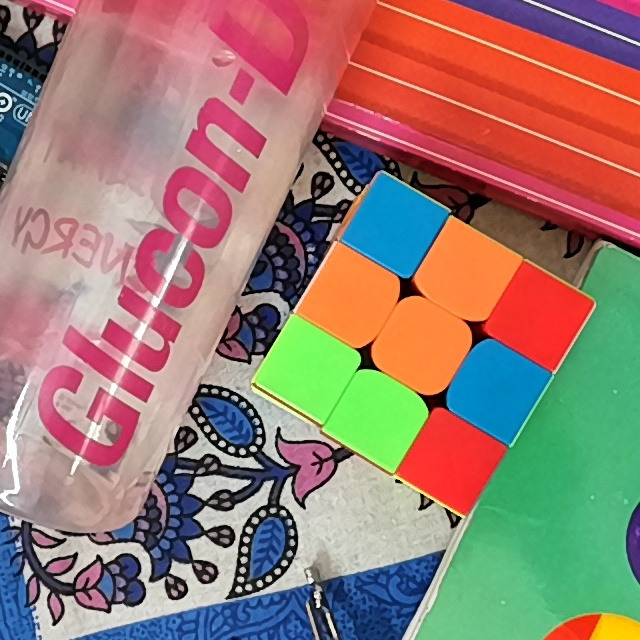tile: (393, 317, 451, 376), (436, 245, 495, 302), (510, 290, 567, 347), (324, 271, 381, 328), (280, 340, 336, 397), (422, 434, 480, 487), (367, 201, 425, 252), (353, 393, 408, 445), (469, 361, 521, 415)
